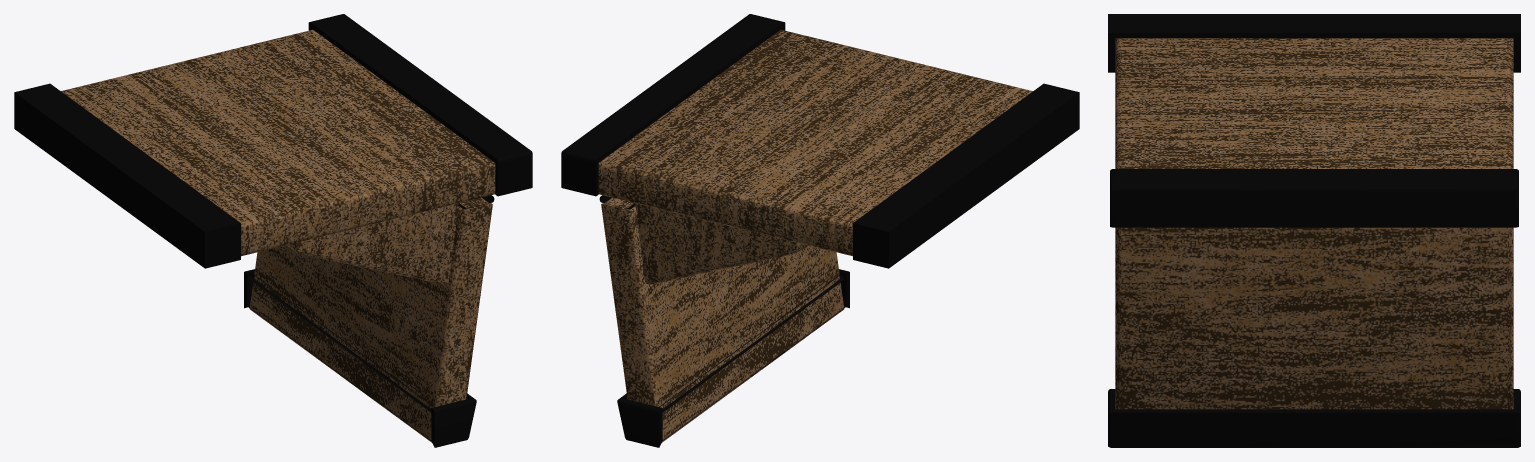
The model's file is Vico_Object_Court_Desk_Witness.fbx.
3 views of the same model, side by side, from view 1: azimuth 30°, elevation 25°; view 2: azimuth 150°, elevation 25°; view 3: azimuth 270°, elevation 25° (orthographic). The views are drawn at different scales.
Parts seen in each view (by area): view 1: Court_Desk_Witness; view 2: Court_Desk_Witness; view 3: Court_Desk_Witness.
Boxes of the visible parts, left/top/right/bottom form: Court_Desk_Witness: left=14, top=14, right=532, bottom=447; Court_Desk_Witness: left=561, top=14, right=1079, bottom=447; Court_Desk_Witness: left=1108, top=14, right=1520, bottom=447.
Size of the model in its own units: 103 by 81.5 by 104.
